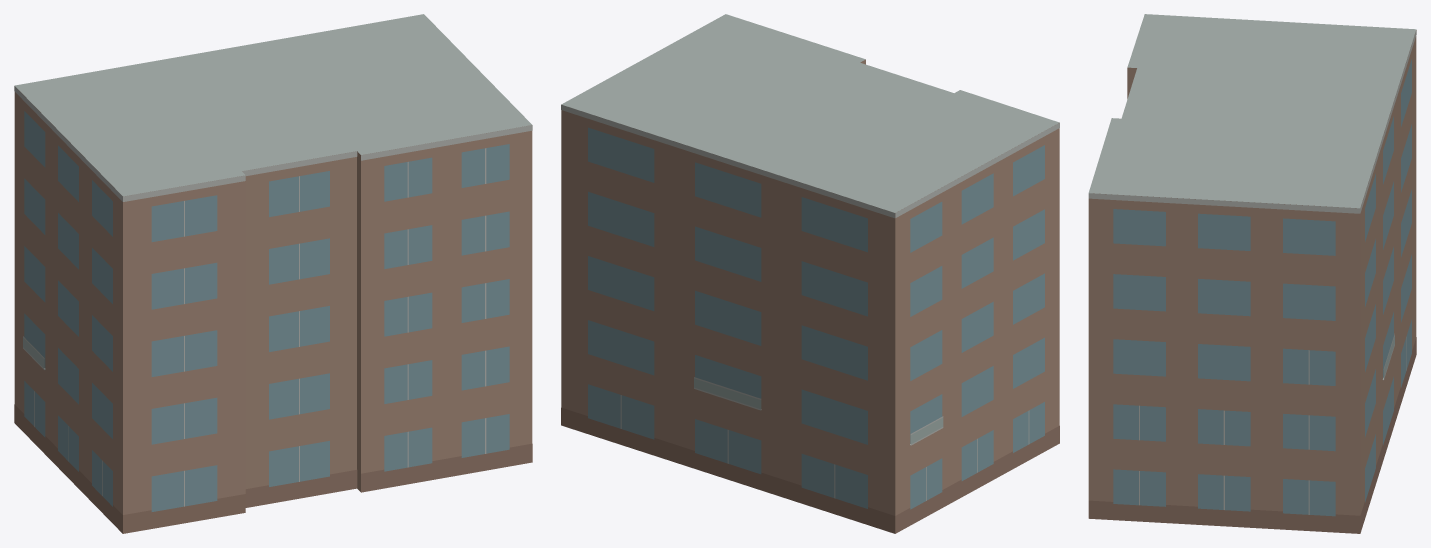
Rendered from survey-upis-32633118.glb.
3 views of the same model, side by side, from view 1: azimuth 30°, elevation 25°; view 2: azimuth 150°, elevation 25°; view 3: azimuth 270°, elevation 25° (orthographic). The views are drawn at different scales.
Parts seen in each view (by area): view 1: survey-upis-32633118.tmp; view 2: survey-upis-32633118.tmp; view 3: survey-upis-32633118.tmp.
Boxes of the visible parts, x1,y1,x2,y2 form: survey-upis-32633118.tmp: [14, 14, 532, 533]; survey-upis-32633118.tmp: [561, 14, 1059, 533]; survey-upis-32633118.tmp: [1088, 14, 1416, 533].
Size of the model in its own units: 18.54 by 14.48 by 13.23.
